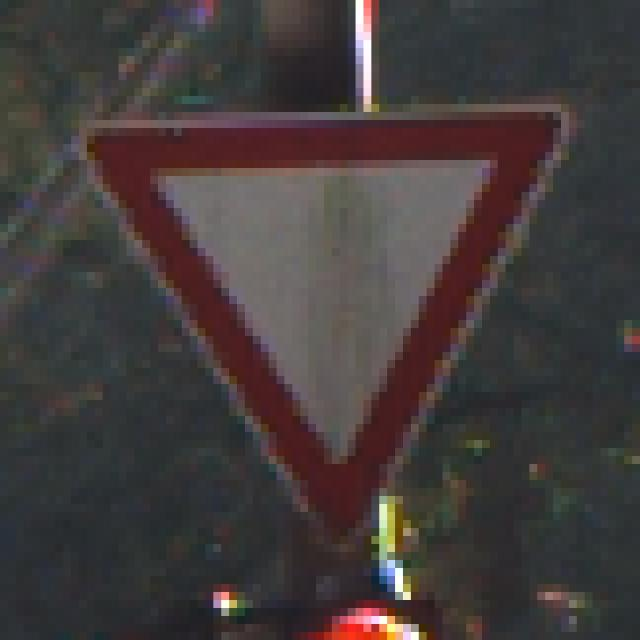Give Way: (56, 65, 586, 585)
